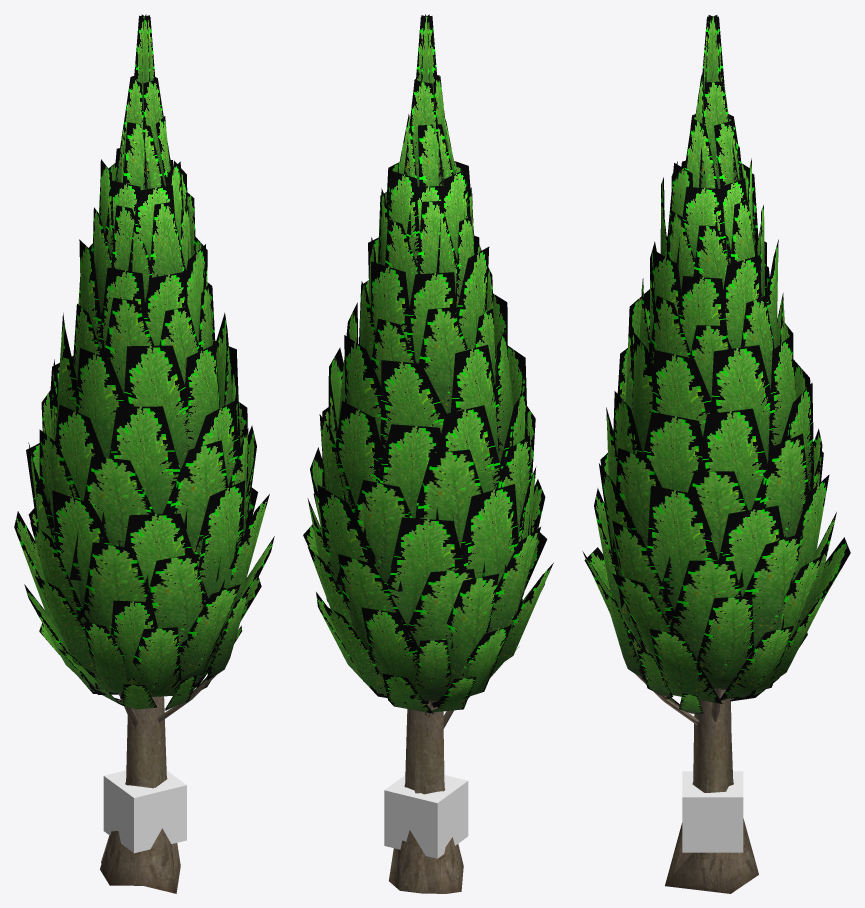
File: plants_me_tree_cypress01.gltf
The picture shows the model from 3 angles, left to right: view 1: azimuth 30°, elevation 25°; view 2: azimuth 150°, elevation 25°; view 3: azimuth 270°, elevation 25°; orthographic projection.
Visible parts, largest first — view 1: um_plants_me_tree_cypress01_model_lod0Shape:plants_me_tree_c (×2), um_plants_me_tree_cypress01_model_lod1Shape:plants_me_tree_c (×2), um_plants_me_tree_cypress01_model_lod0Shape:objects_tree_dec; view 2: um_plants_me_tree_cypress01_model_lod0Shape:plants_me_tree_c (×2), um_plants_me_tree_cypress01_model_lod1Shape:plants_me_tree_c (×2), um_plants_me_tree_cypress01_model_lod0Shape:objects_tree_dec; view 3: um_plants_me_tree_cypress01_model_lod0Shape:plants_me_tree_c (×2), um_plants_me_tree_cypress01_model_lod1Shape:plants_me_tree_c (×2), um_plants_me_tree_cypress01_model_lod0Shape:objects_tree_dec.
Part boxes in pixels (x1,y1,x2,y2): um_plants_me_tree_cypress01_model_lod0Shape:plants_me_tree_c (×2): [14, 14, 269, 893]; um_plants_me_tree_cypress01_model_lod1Shape:plants_me_tree_c (×2): [14, 148, 274, 893]; um_plants_me_tree_cypress01_model_lod0Shape:objects_tree_dec: [103, 770, 186, 853]; um_plants_me_tree_cypress01_model_lod0Shape:plants_me_tree_c (×2): [307, 14, 553, 893]; um_plants_me_tree_cypress01_model_lod1Shape:plants_me_tree_c (×2): [303, 161, 547, 893]; um_plants_me_tree_cypress01_model_lod0Shape:objects_tree_dec: [384, 775, 468, 858]; um_plants_me_tree_cypress01_model_lod0Shape:plants_me_tree_c (×2): [589, 15, 849, 893]; um_plants_me_tree_cypress01_model_lod1Shape:plants_me_tree_c (×2): [582, 146, 850, 893]; um_plants_me_tree_cypress01_model_lod0Shape:objects_tree_dec: [682, 771, 743, 852].
Size of what is drawn, in the model's own units: 4.17 by 15.6 by 4.39.
3 materials, 2 textured.
